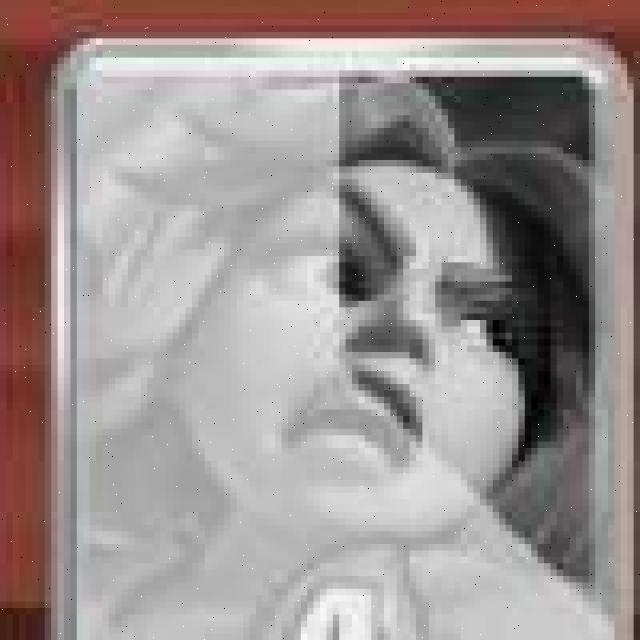Valkyrie: (59, 43, 633, 640)
